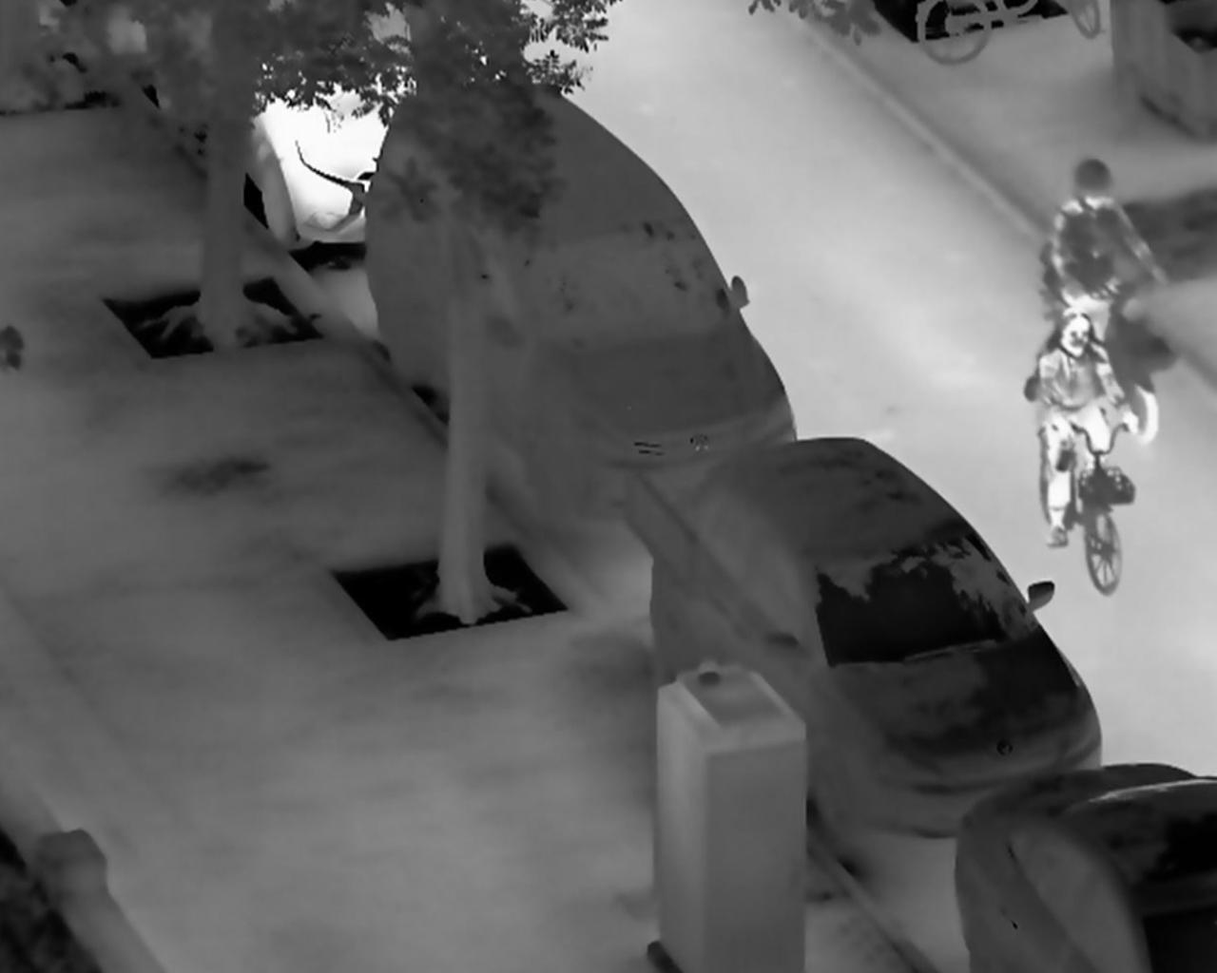person: (1034, 305, 1145, 555), (1045, 154, 1178, 340)
